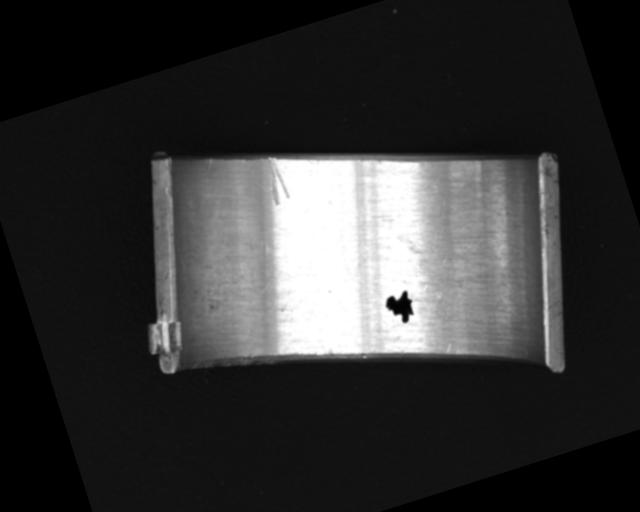blot: (381, 287, 420, 328)
nick: (259, 154, 292, 206), (203, 156, 215, 174)
